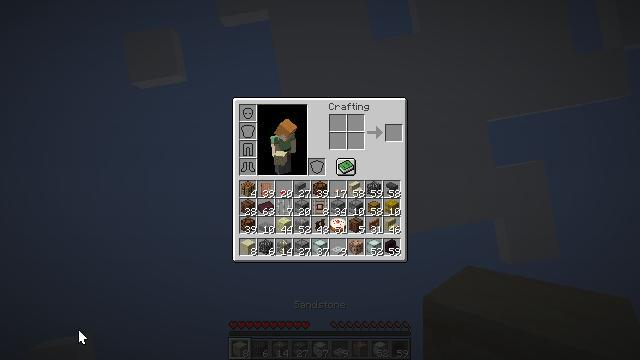cursor: (78, 329, 88, 345)
